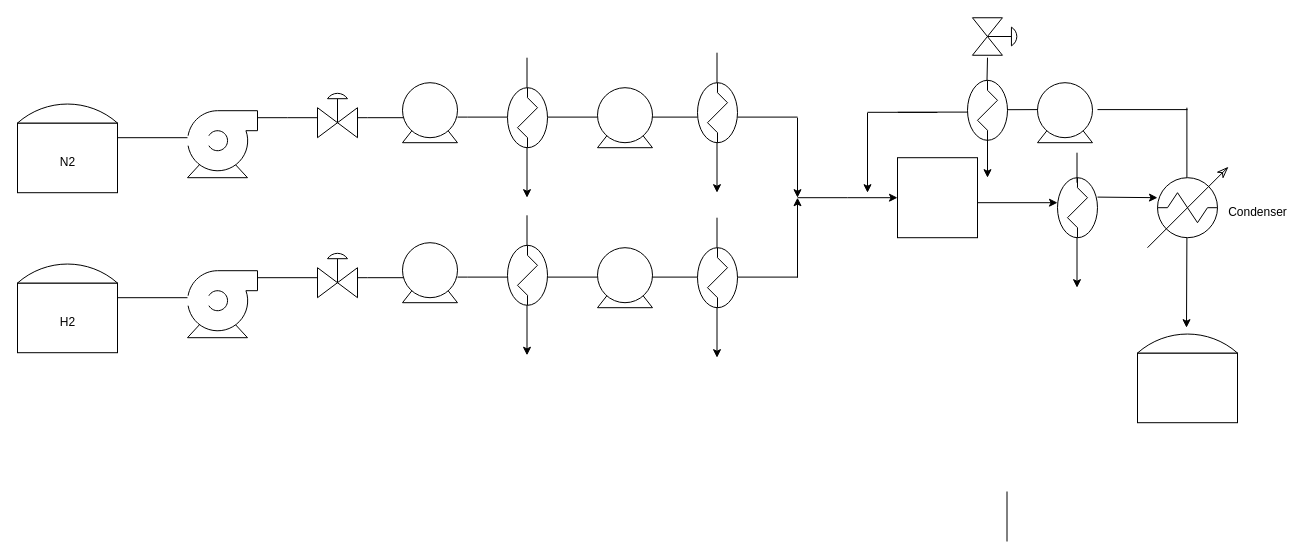
Some shapes in this 1315 by 560 pixel diagram are drawn without their labels. Each missing label, with the centre of its shape:
NH3: [1187,375]
Reactor: [937,197]
